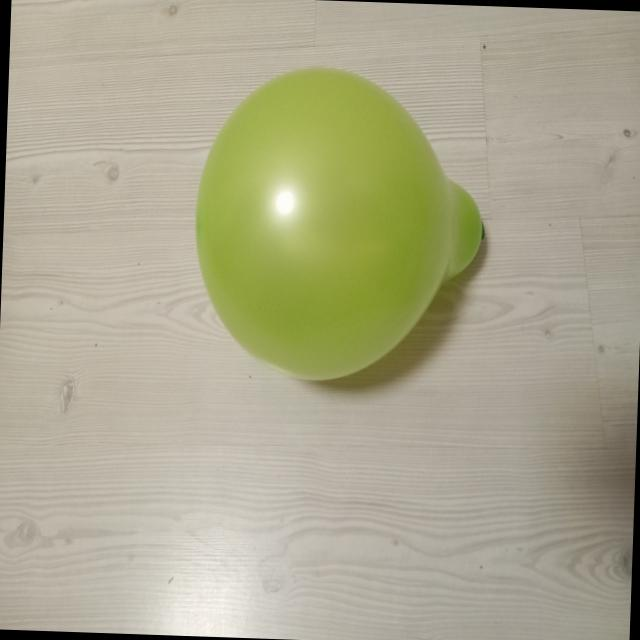balloon: (196, 67, 484, 380)
